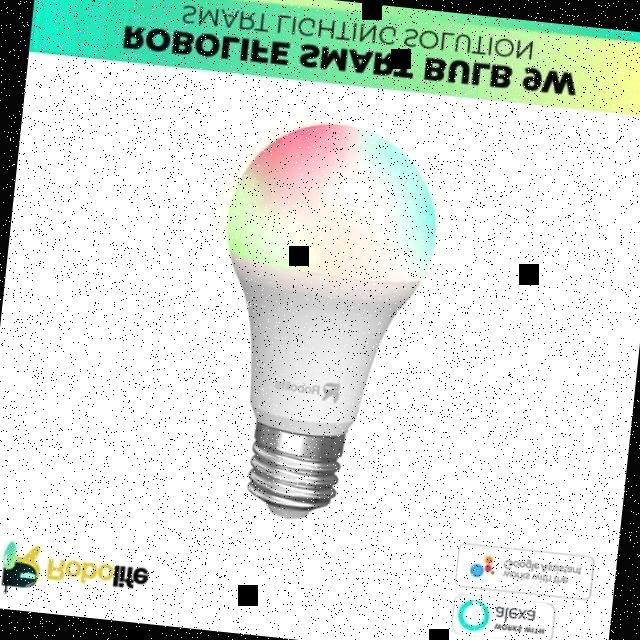light_bulb: (178, 109, 450, 544)
